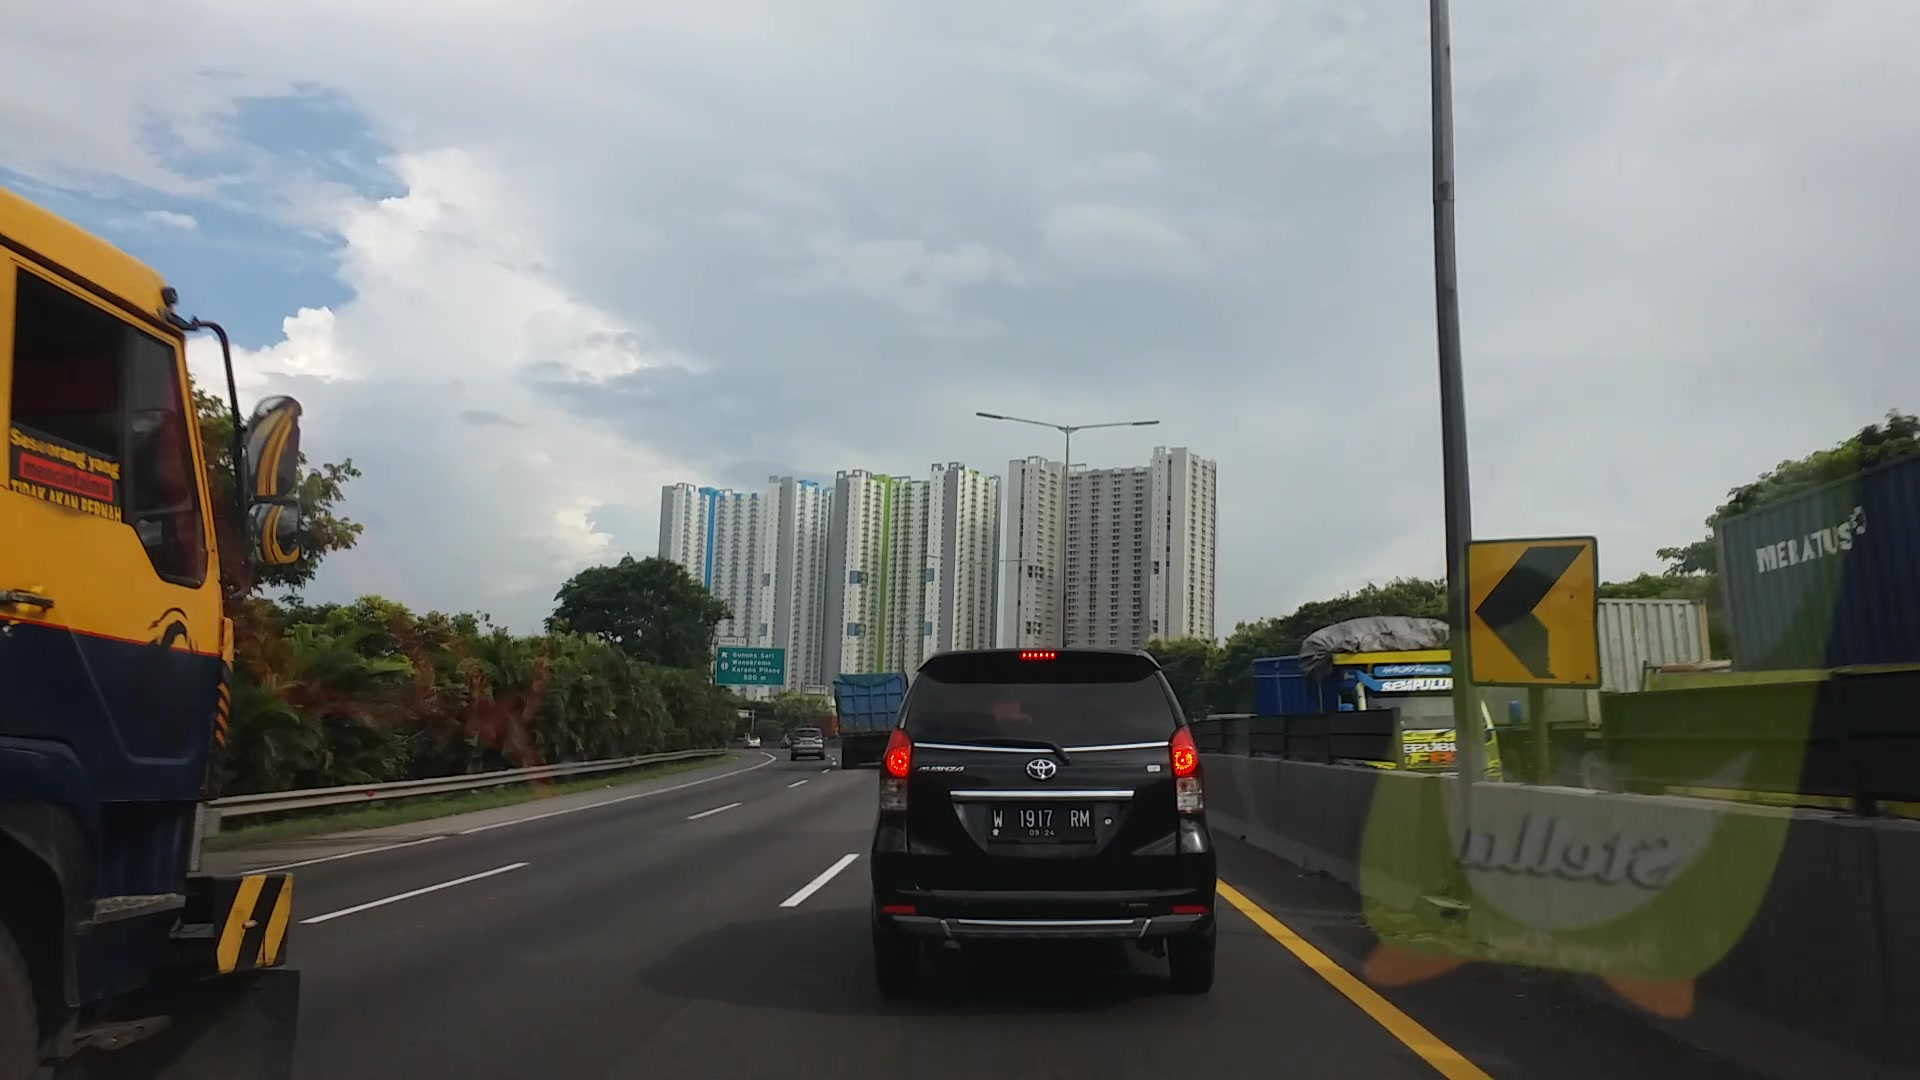plate_positive: (988, 802, 1095, 844)
